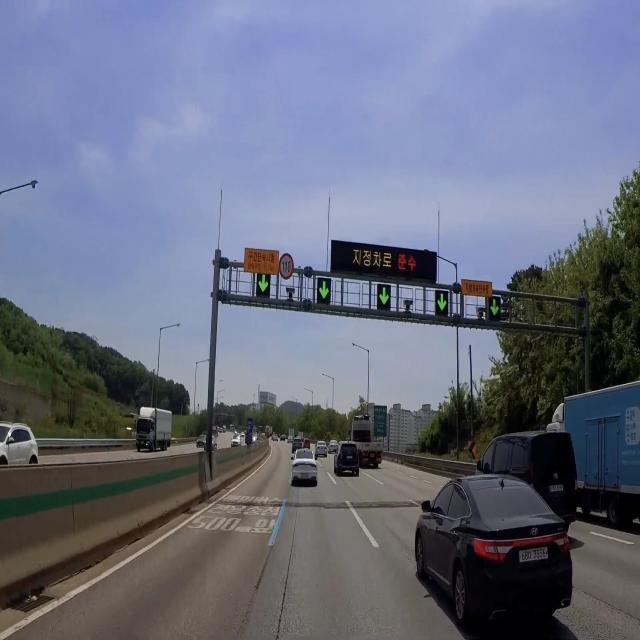car: (520, 546, 550, 562), (549, 483, 566, 496), (298, 471, 313, 481), (344, 452, 355, 464), (365, 451, 378, 461)
